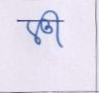i_matra: (46, 9, 64, 50)
